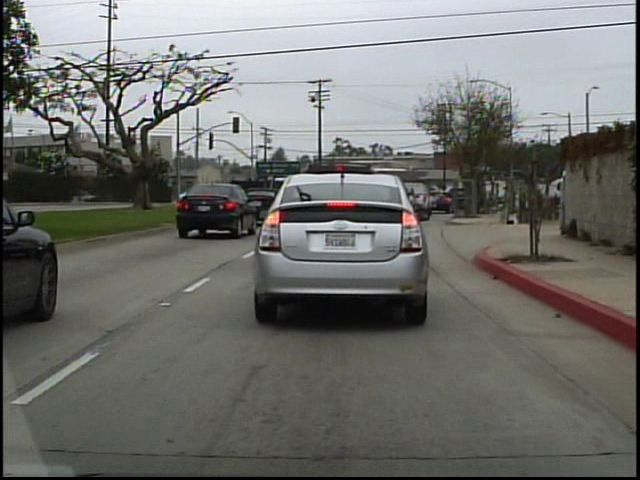person: (551, 164, 571, 242)
